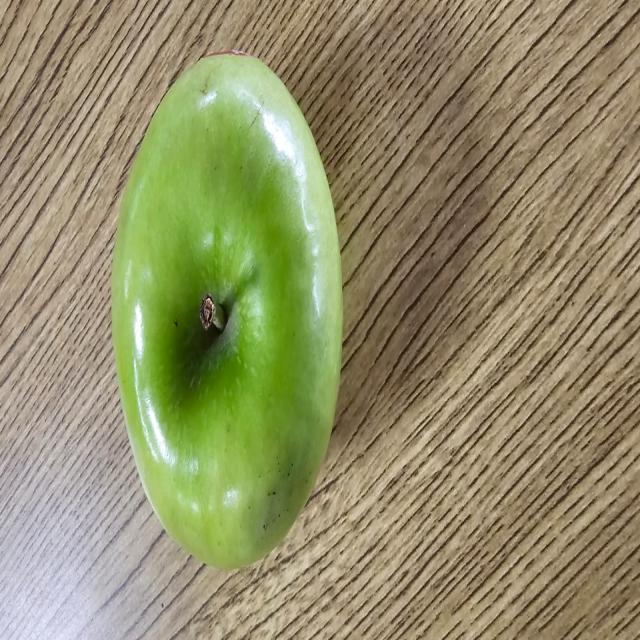Apel Granny Smith: (109, 43, 348, 578)
